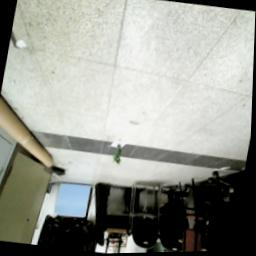herb: (114, 144, 126, 166)
